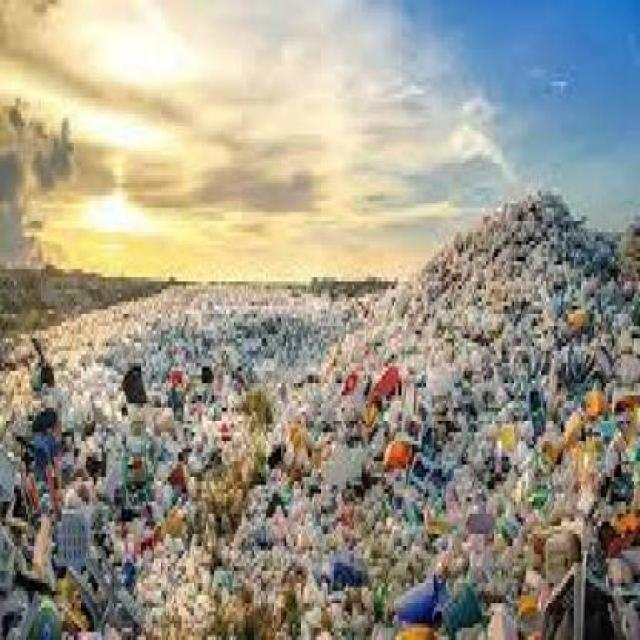garbage: (0, 266, 638, 637), (411, 158, 638, 280)
